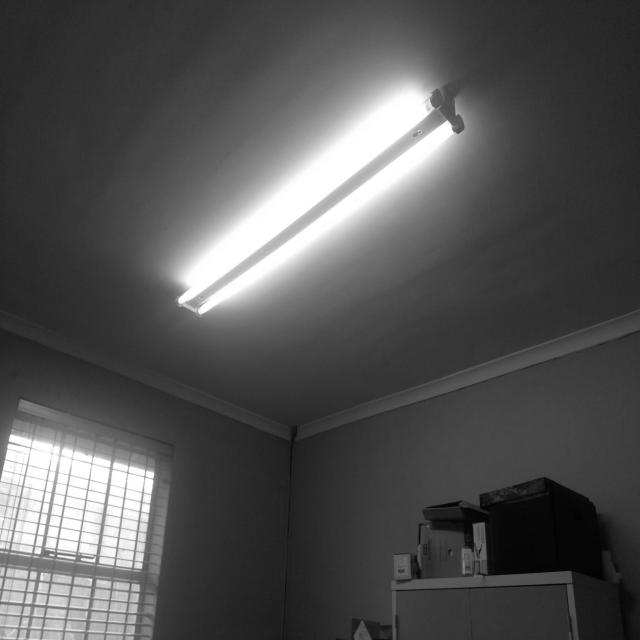light: (175, 85, 462, 317)
